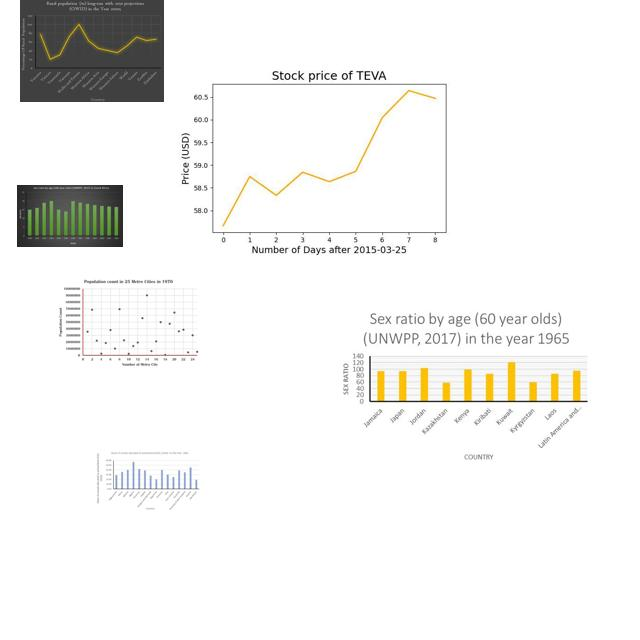Graph: (175, 44, 476, 270), (335, 305, 594, 468), (20, 0, 164, 102), (57, 279, 200, 368), (95, 448, 203, 512), (17, 185, 123, 247)
